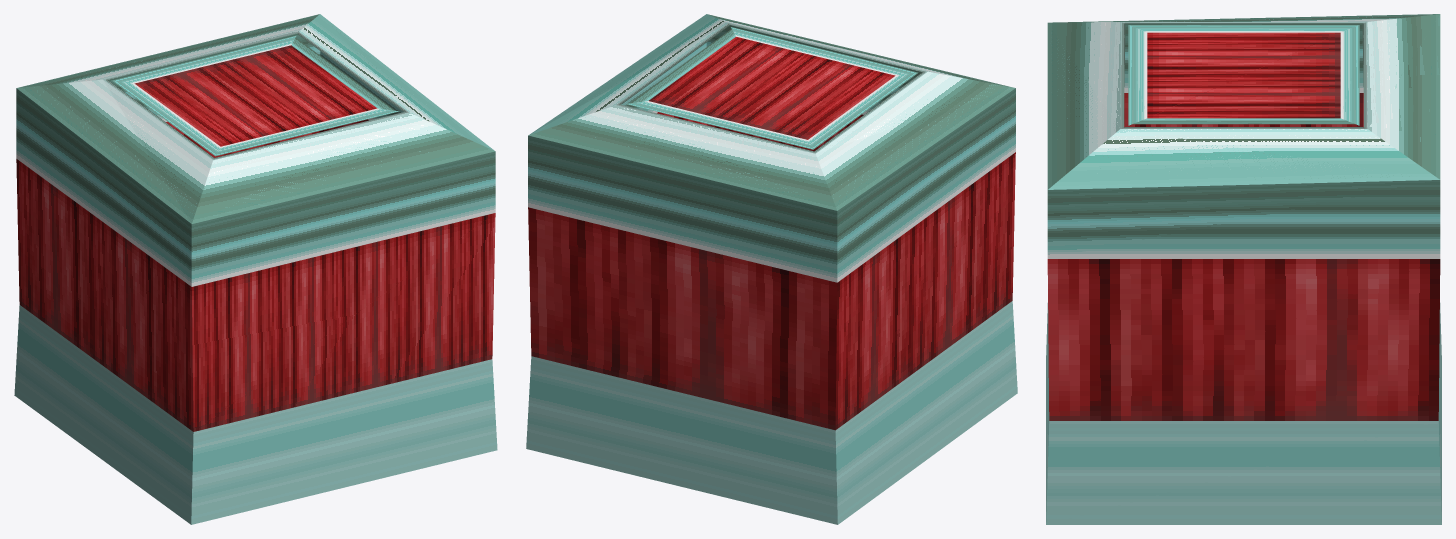
The model's file is crate-iron-lod2.glb.
The picture shows the model from 3 angles, left to right: view 1: azimuth 30°, elevation 25°; view 2: azimuth 150°, elevation 25°; view 3: azimuth 270°, elevation 25°; orthographic projection. The views are drawn at different scales.
Parts seen in each view (by area): view 1: crate-iron-lod2; view 2: crate-iron-lod2; view 3: crate-iron-lod2.
Part boxes in pixels (x1,y1,x2,y2): crate-iron-lod2: (14,14,497,524); crate-iron-lod2: (526,14,1017,524); crate-iron-lod2: (1046,14,1441,524).
Bounding box in the file's own units: 1.71 × 1.74 × 1.71.
3 materials, 3 textured.
